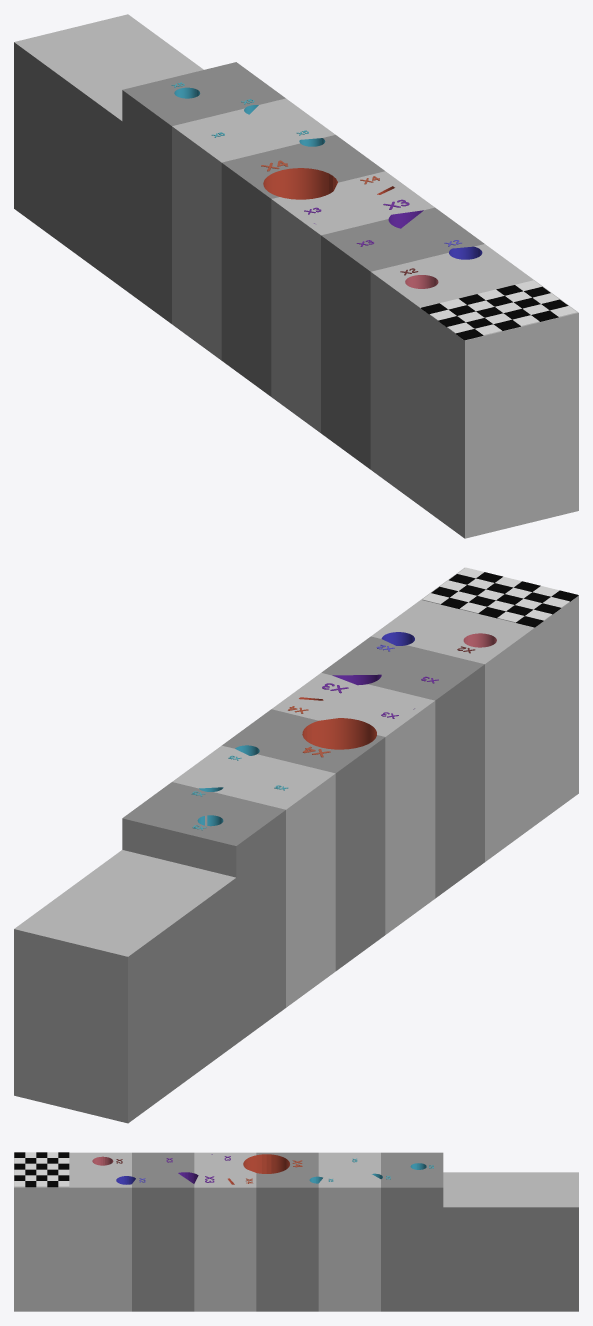
The picture shows the model from 3 angles, top to bottom: view 1: azimuth 30°, elevation 25°; view 2: azimuth 150°, elevation 25°; view 3: azimuth 270°, elevation 25°; orthographic projection. The views are drawn at different scales.
Visible parts, largest first — view 1: Cube.002, Cube.001; view 2: Cube.002, Cube.001; view 3: Cube.002, Cube.001.
Part boxes in pixels (x1=…): Cube.002: x1=14, y1=14, x2=578, y2=538; Cube.001: x1=421, y1=280, x2=577, y2=340; Cube.002: x1=14, y1=567, x2=578, y2=1123; Cube.001: x1=422, y1=567, x2=578, y2=627; Cube.002: x1=14, y1=1152, x2=578, y2=1311; Cube.001: x1=14, y1=1152, x2=69, y2=1187.
Size of the model in its own units: 10 by 16.64 by 68.43.
